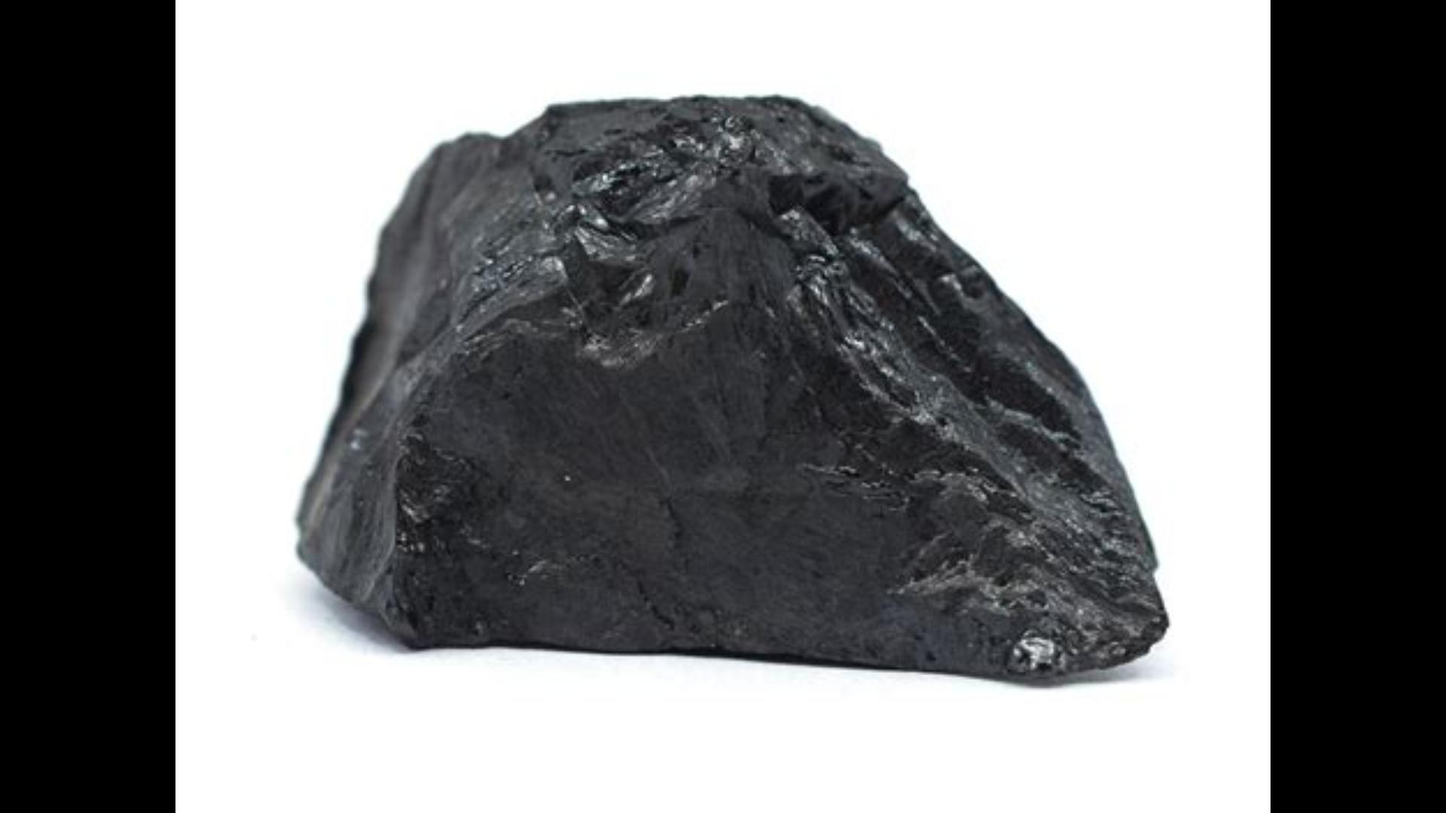rock: (298, 97, 1162, 674)
